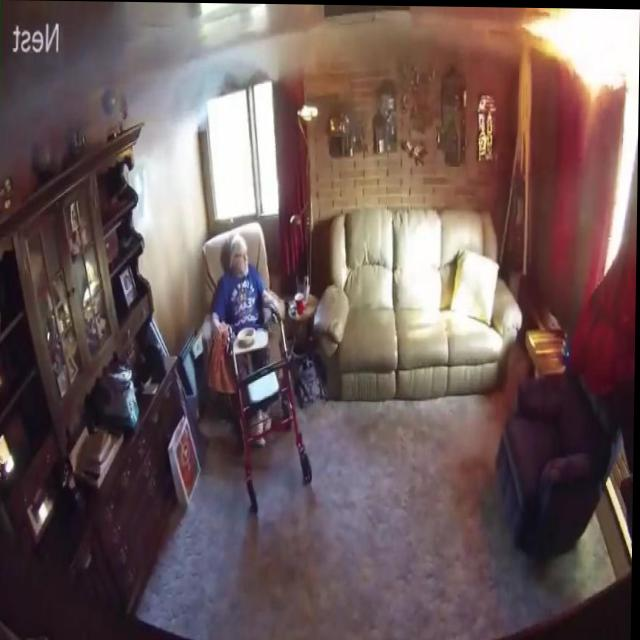fire: (522, 7, 639, 98)
